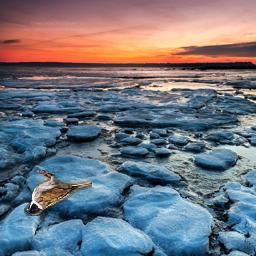Sparrow: (24, 170, 92, 216)
